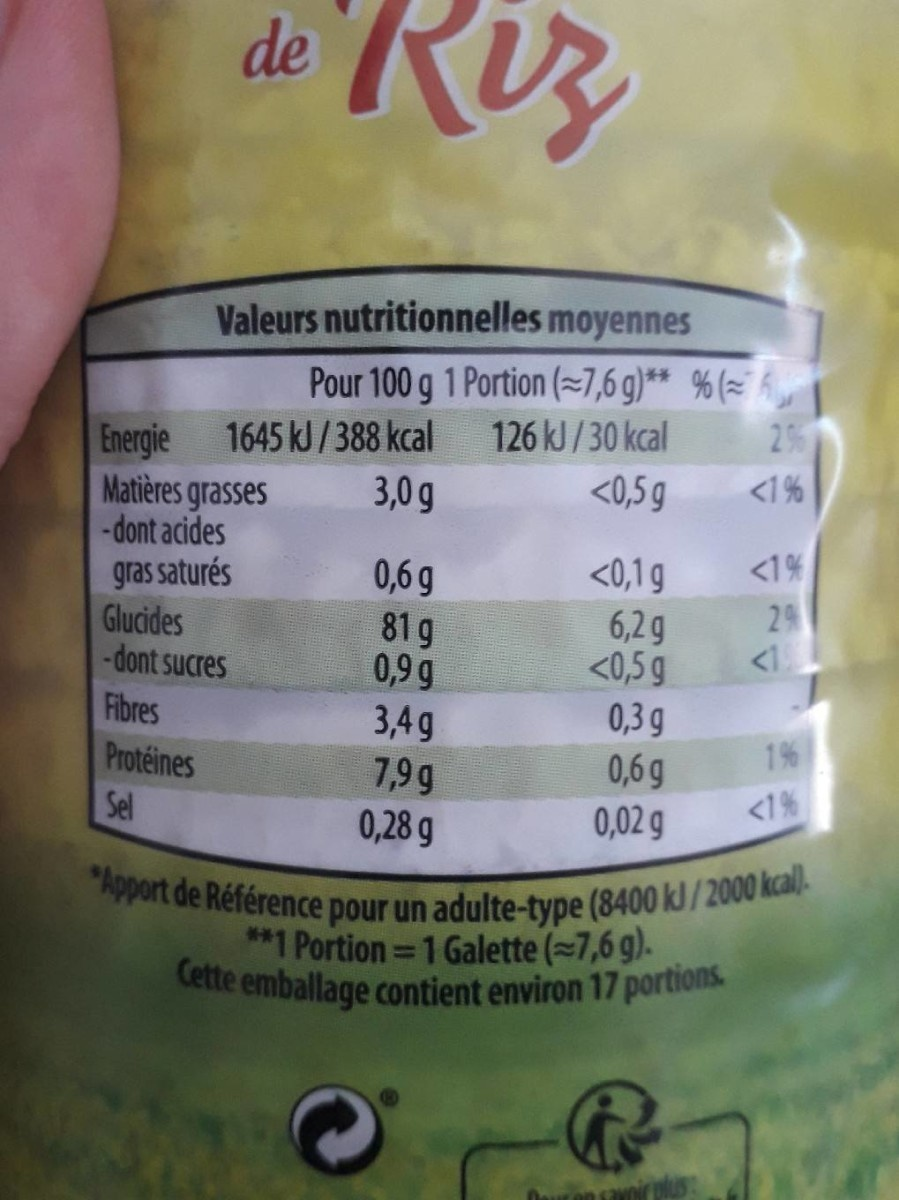column: (96, 354, 435, 879), (444, 351, 672, 880), (684, 353, 809, 882)
table: (77, 264, 823, 879)
